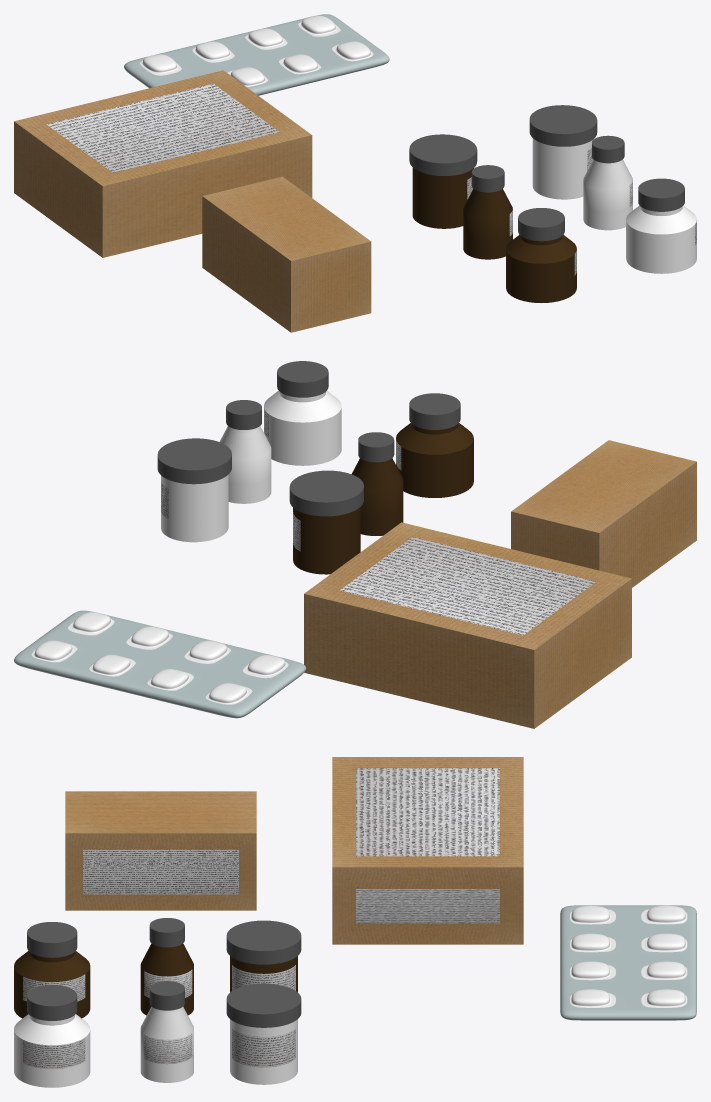
File: medicatieObjects.fbx
The picture shows the model from 3 angles, top to bottom: view 1: azimuth 30°, elevation 25°; view 2: azimuth 150°, elevation 25°; view 3: azimuth 270°, elevation 25°; orthographic projection. The views are drawn at different scales.
Visible parts, largest first — view 1: Medicijndoosje1, Medicijndoosje1_1, pilletsje, fles_3, fles_6, fles_5, fles_2, fles, fles_4, deksel, deksel_4, deksel_3 (+3 smaller); view 2: Medicijndoosje1, Medicijndoosje1_1, pilletsje, fles_3, fles_6, fles, fles_4, fles_2, fles_5, deksel_4, deksel, deksel_3 (+3 smaller); view 3: Medicijndoosje1, Medicijndoosje1_1, pilletsje, fles_3, fles, fles_2, fles_6, deksel_4, deksel, fles_5, fles_4, deksel_3 (+3 smaller).
Part boxes in pixels (x1,y1,x2,y2): Medicijndoosje1: (14,70,312,257); Medicijndoosje1_1: (202,176,371,332); pilletsje: (124,14,389,95); fles_3: (626,205,696,273); fles_6: (506,235,576,302); fles_5: (463,189,512,259); fles_2: (583,159,632,230); fles: (532,138,593,199); fles_4: (412,167,473,228); deksel: (529,105,597,146); deksel_4: (409,134,477,175); deksel_3: (638,178,684,211); Medicijndoosje1: (304,522,631,728); Medicijndoosje1_1: (511,440,696,587); pilletsje: (14,610,306,718); fles_3: (264,390,341,465); fles_6: (396,423,473,497); fles: (161,474,228,542); fles_4: (293,507,360,574); fles_2: (219,426,271,503); fles_5: (352,458,403,535); deksel_4: (289,470,363,516); deksel: (157,438,231,484); deksel_3: (277,361,328,397); Medicijndoosje1: (332,757,523,944); Medicijndoosje1_1: (65,791,256,910); pilletsje: (560,905,696,1020); fles_3: (14,1014,90,1087); fles: (230,1019,297,1084); fles_2: (140,1006,193,1082); fles_6: (14,951,90,1018); deksel_4: (226,920,301,964); deksel: (226,983,301,1027); fles_5: (140,943,193,1015); fles_4: (230,956,297,992); deksel_3: (27,985,77,1020).
Size of the model in its own units: 43.88 by 7.5 by 52.35.
Materials: 7 (2 with a texture image).
